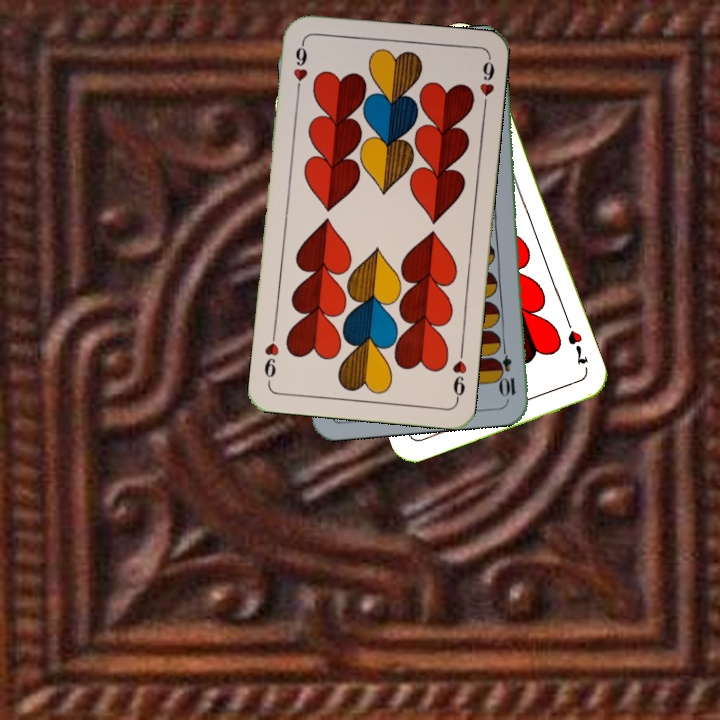E10: (496, 340, 519, 399)
H7: (563, 326, 591, 368)
H9: (448, 344, 470, 403), (289, 38, 310, 97)
